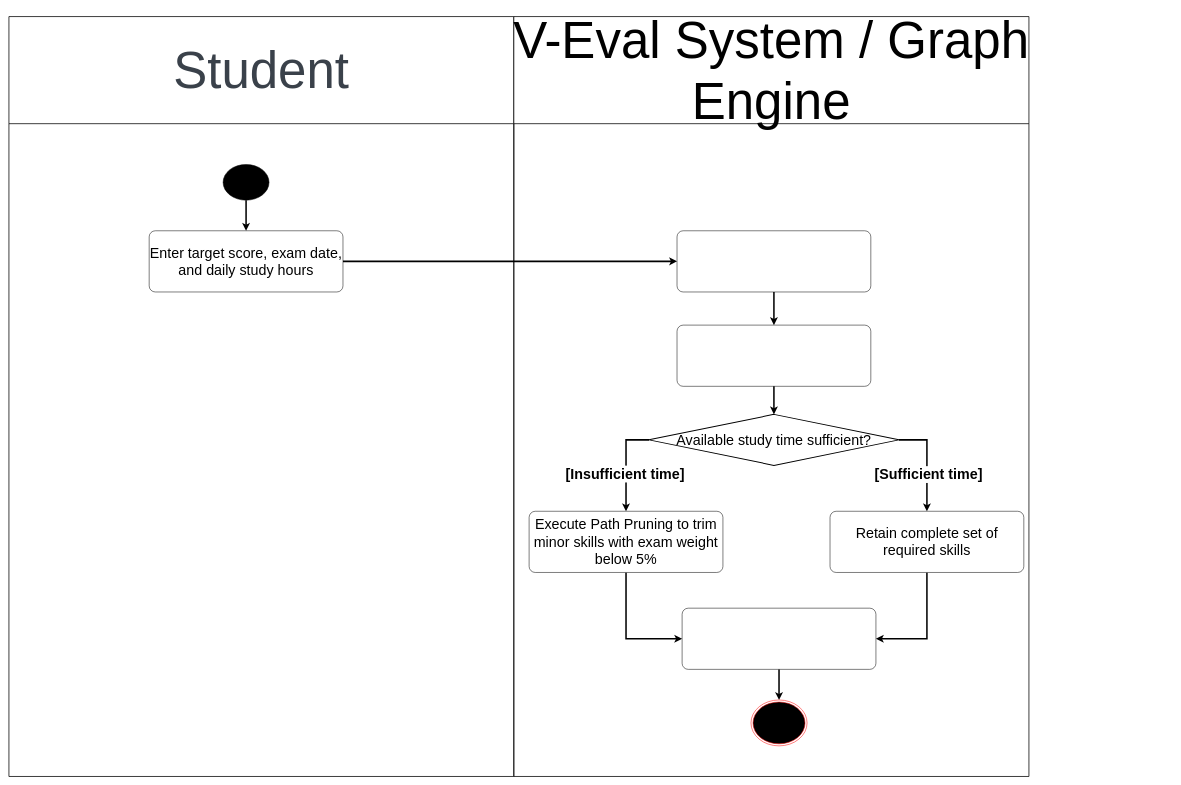
Image size: 1181x785. Some labels were removed from this diagram. Here are the shapes that lost their labels. From the top down, the centre of each, then its label:
point (774, 261): Calculate available study hours based on exam date and daily study time
point (774, 355): Estimate total required study hours for all skills
point (779, 638): Output filtered skill list to validation queue
